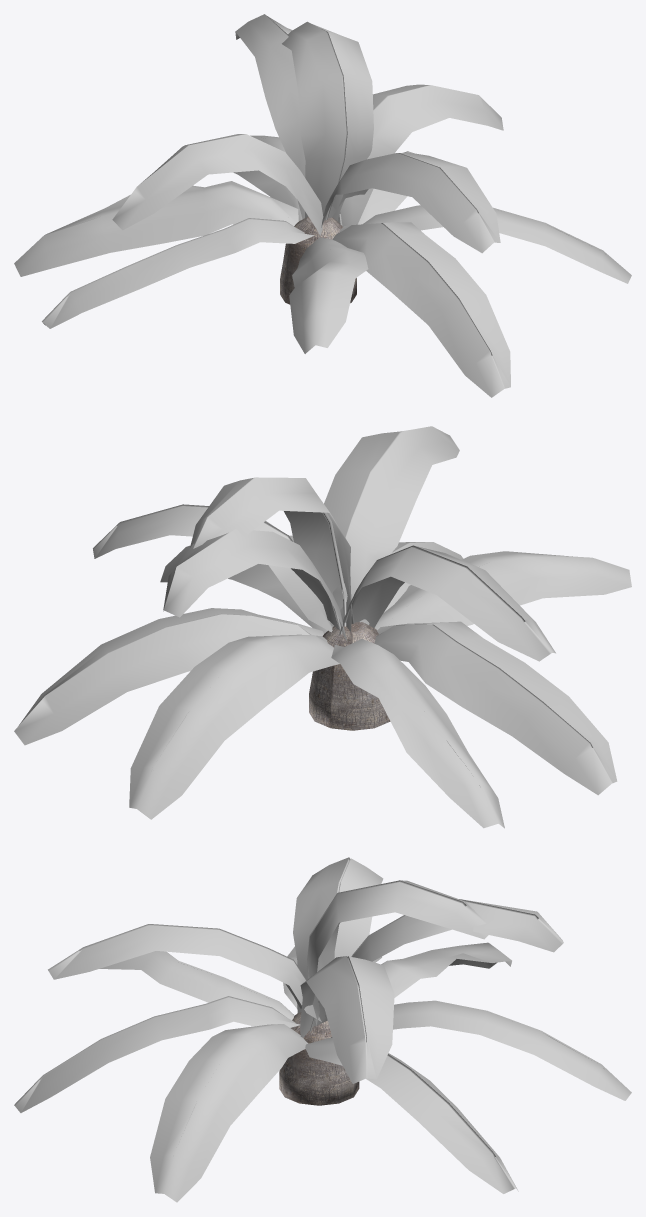
File: floorpalm.dae
3 views of the same model, one above another, from view 1: azimuth 30°, elevation 25°; view 2: azimuth 150°, elevation 25°; view 3: azimuth 270°, elevation 25° (orthographic). The views are drawn at different scales.
Visible parts, largest first — view 1: floorpalm_palm, floorpalm_trunk; view 2: floorpalm_palm, floorpalm_trunk; view 3: floorpalm_palm, floorpalm_trunk.
Part boxes in pixels (left/top/right/bottom): floorpalm_palm: left=14, top=14, right=631, bottom=397; floorpalm_trunk: left=280, top=216, right=356, bottom=304; floorpalm_palm: left=14, top=426, right=631, bottom=828; floorpalm_trunk: left=309, top=622, right=390, bottom=730; floorpalm_palm: left=14, top=857, right=631, bottom=1202; floorpalm_trunk: left=279, top=1012, right=359, bottom=1105.
Size of the model in its own units: 139 by 61.88 by 146.
